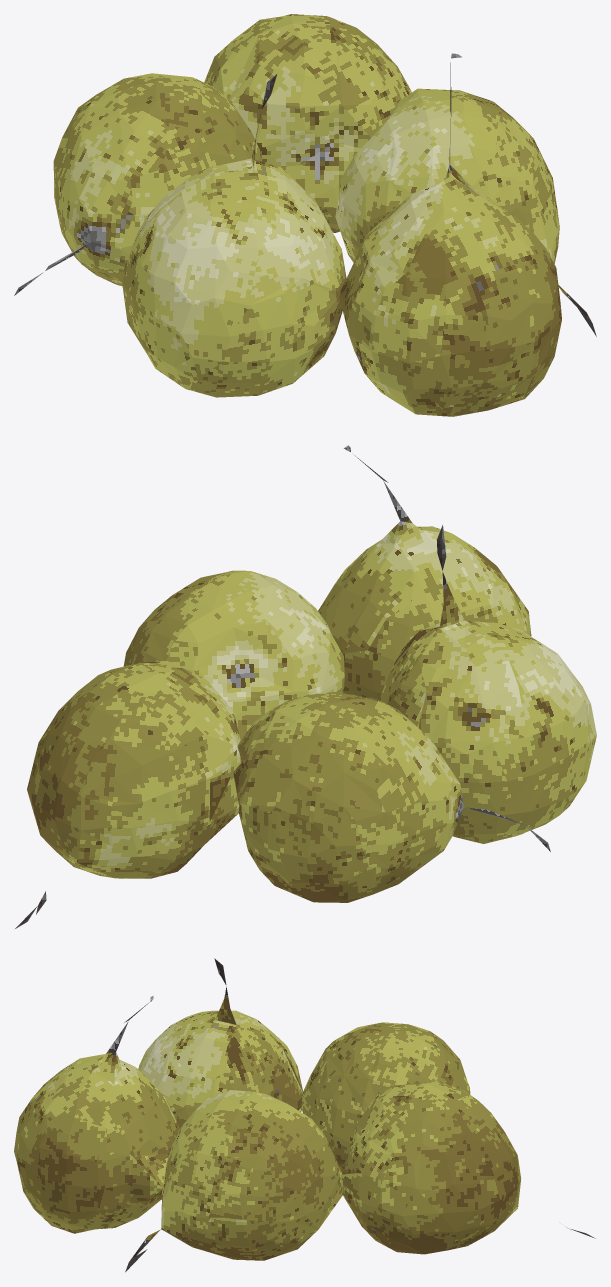
The model's file is nashi.glb.
3 views of the same model, one above another, from view 1: azimuth 30°, elevation 25°; view 2: azimuth 150°, elevation 25°; view 3: azimuth 270°, elevation 25° (orthographic). The views are drawn at different scales.
Parts seen in each view (by area): view 1: model_m; view 2: model_m; view 3: model_m.
Part boxes in pixels (<box>): model_m: <box>14,14,596,416</box>; model_m: <box>15,445,596,928</box>; model_m: <box>14,958,595,1272</box>.
Bounding box in the file's own units: 19.05 × 11.83 × 26.61.
1 material, 1 textured.
